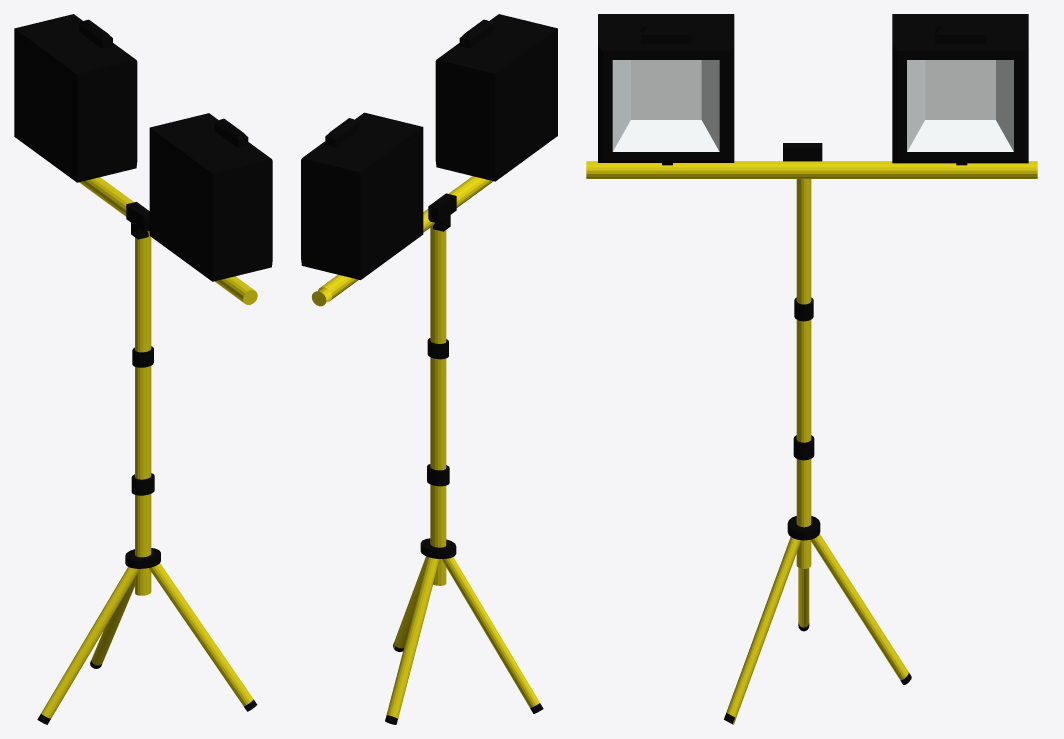
Rendered from Reflectores obra.fbx.
3 renders of one model, left to right at view 1: azimuth 30°, elevation 25°; view 2: azimuth 150°, elevation 25°; view 3: azimuth 270°, elevation 25°, orthographic. The views are drawn at different scales.
Parts seen in each view (by area): view 1: Reflector; view 2: Reflector; view 3: Reflector.
Part boxes in pixels (<box>): Reflector: <box>14,14,272,724</box>; Reflector: <box>301,14,557,724</box>; Reflector: <box>586,14,1037,724</box>.
Size of the model in its own units: 50 by 160 by 100.
